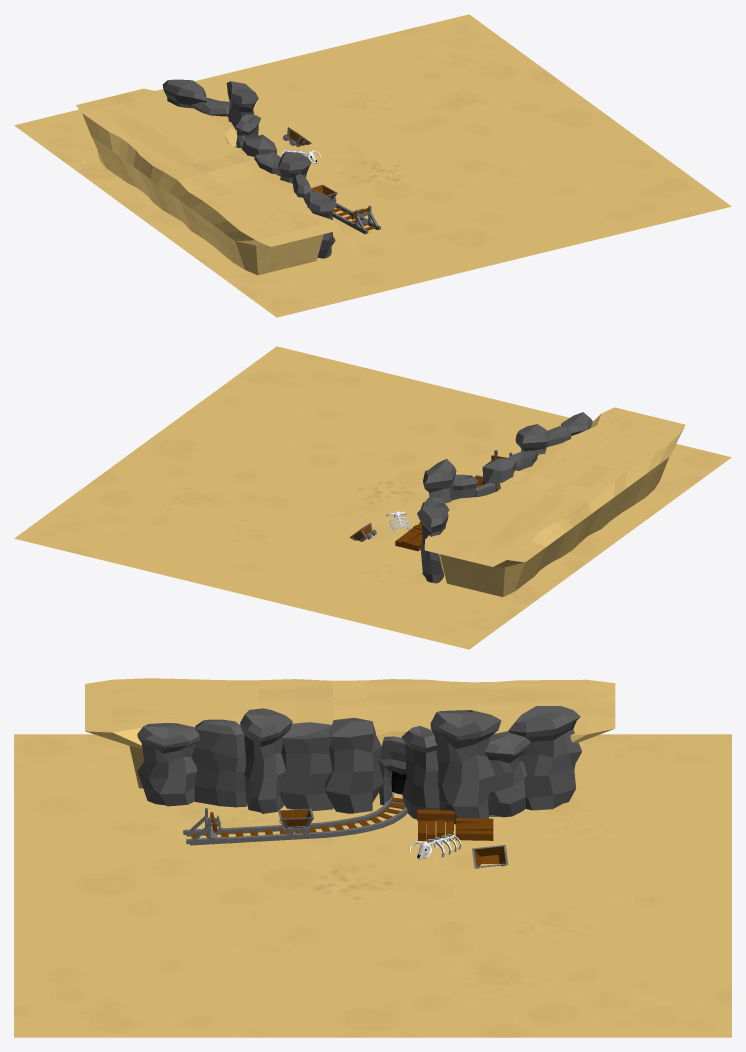
Rendered from Deserto_Silencioso_6.fbx.
3 renders of one model, top to bottom at view 1: azimuth 30°, elevation 25°; view 2: azimuth 150°, elevation 25°; view 3: azimuth 270°, elevation 25°, orthographic. The views are drawn at different scales.
Parts seen in each view (by area): view 1: Plane, Cube.003, Cube.004; view 2: Plane, Cube.003, Cube.004; view 3: Plane, Cube.004, Cube.003, Trilho.001, Cube.005, Cube.006, Carrinho, Cube.002, Carrinho.001, Cube.
Boxes of the visible parts, x1=… form: Plane: x1=14, y1=14, x2=731, y2=317; Cube.003: x1=76, y1=88, x2=341, y2=275; Cube.004: x1=162, y1=79, x2=336, y2=258; Plane: x1=14, y1=346, x2=731, y2=649; Cube.003: x1=424, y1=407, x2=685, y2=596; Cube.004: x1=417, y1=412, x2=592, y2=583; Plane: x1=14, y1=734, x2=731, y2=1037; Cube.004: x1=137, y1=706, x2=581, y2=824; Cube.003: x1=85, y1=678, x2=615, y2=794; Trilho.001: x1=186, y1=792, x2=407, y2=845; Cube.005: x1=417, y1=809, x2=454, y2=840; Cube.006: x1=455, y1=817, x2=493, y2=840; Carrinho: x1=277, y1=808, x2=313, y2=835; Cube.002: x1=183, y1=808, x2=226, y2=844; Carrinho.001: x1=472, y1=845, x2=508, y2=868; Cube: x1=409, y1=834, x2=461, y2=859.
Size of the model in its own units: 9484 by 1751 by 9484.
2 materials, 1 textured.
